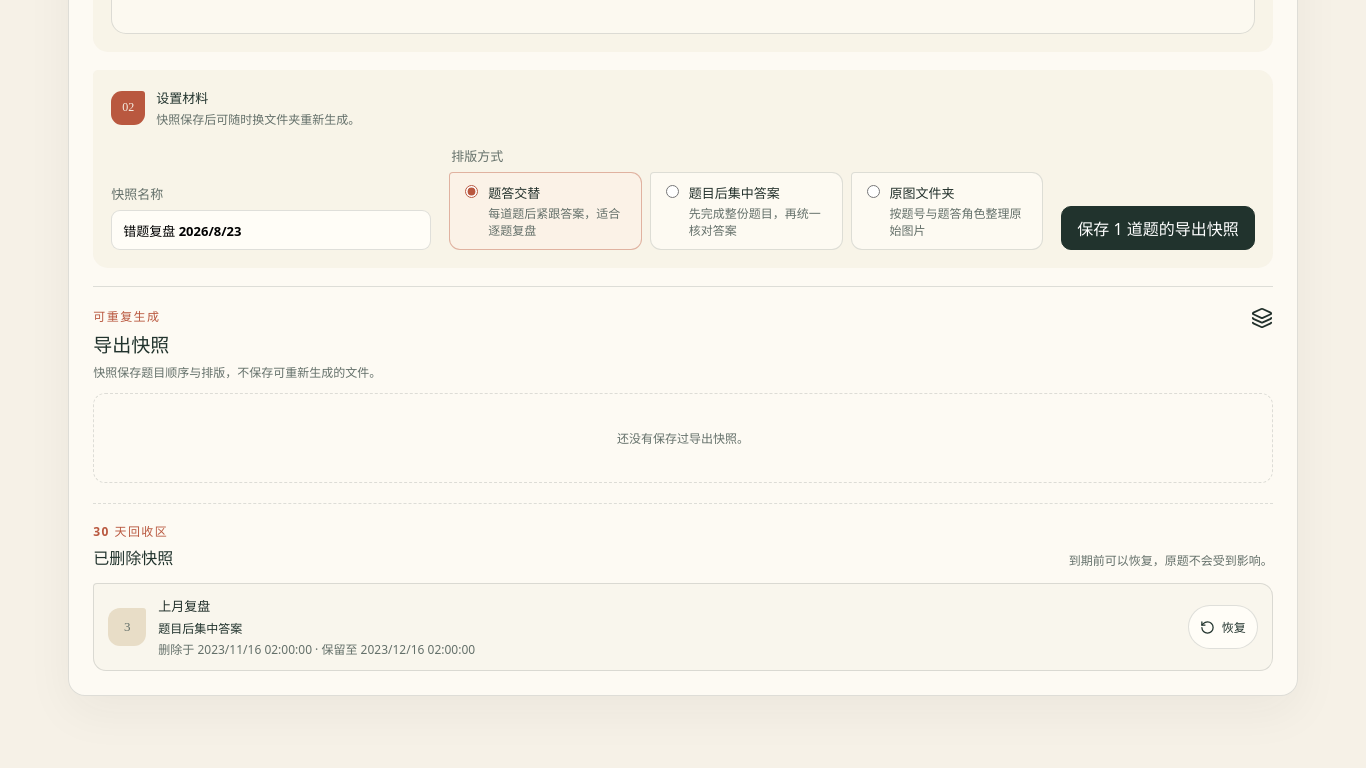
Test case: ReportView › loads the persistent recycle area and restores a deleted snapshot
(page scrolled)
Expected: the text "上月复盘" is shown, [158,597,210,615]
Click the button with aria-label "恢复导出快照：上月复盘": (1223, 627) [1188,605,1258,649]
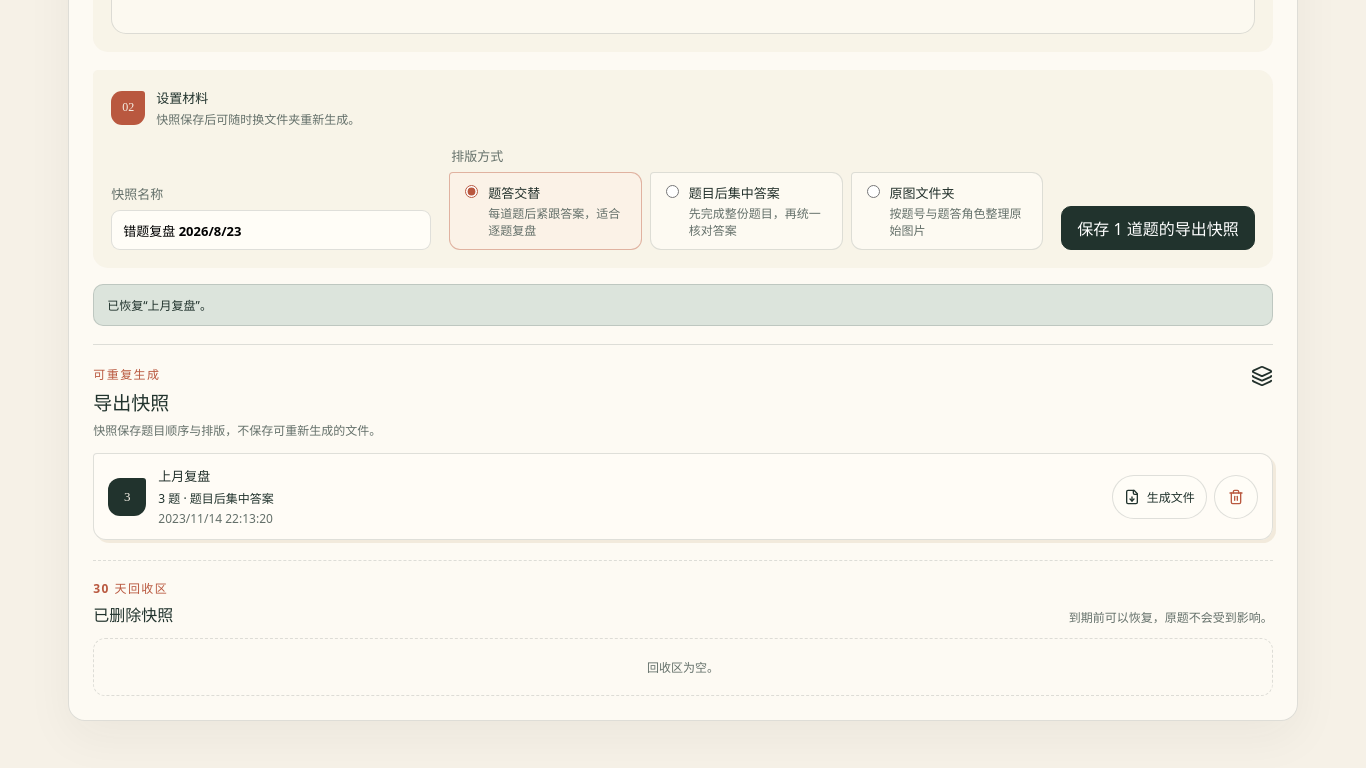
Expected: the button "恢复导出快照：上月复盘" is gone
